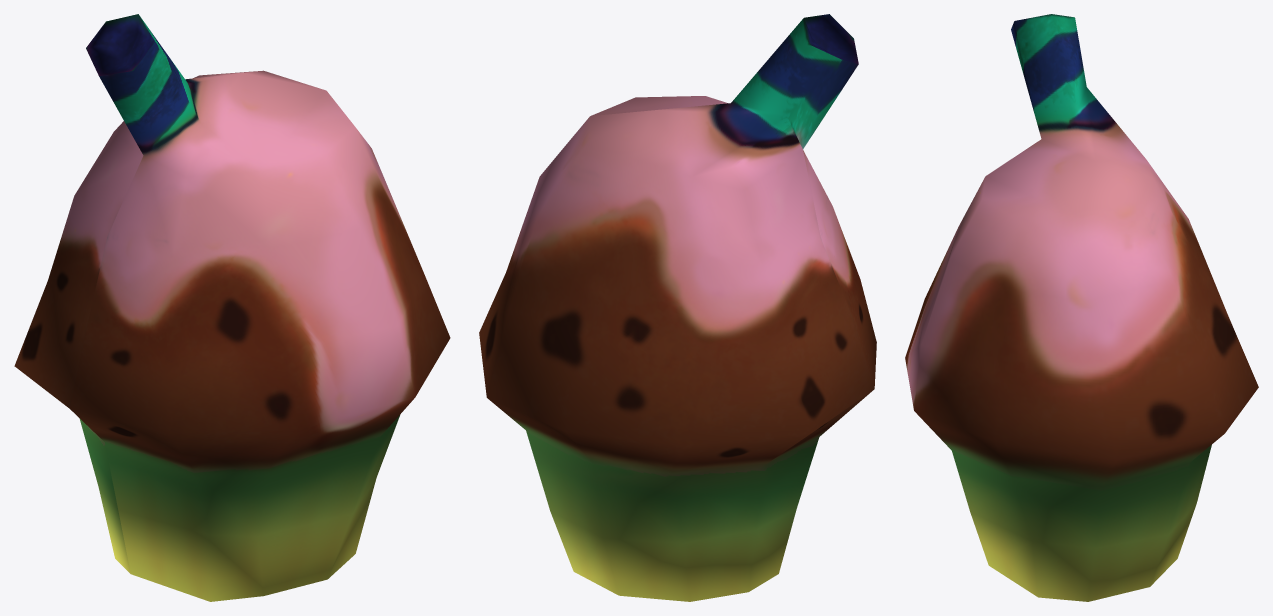
File: Prop_Birthday_Cupcake.fbx
3 renders of one model, left to right at view 1: azimuth 30°, elevation 25°; view 2: azimuth 150°, elevation 25°; view 3: azimuth 270°, elevation 25°, orthographic. The views are drawn at different scales.
Visible parts, largest first — view 1: polySurface1; view 2: polySurface1; view 3: polySurface1.
Part boxes in pixels (left/top/right/bottom): polySurface1: left=14, top=14, right=450, bottom=601; polySurface1: left=479, top=14, right=876, bottom=601; polySurface1: left=905, top=14, right=1258, bottom=601.
Bounding box in the file's own units: 1.29 × 1.98 × 1.24.
